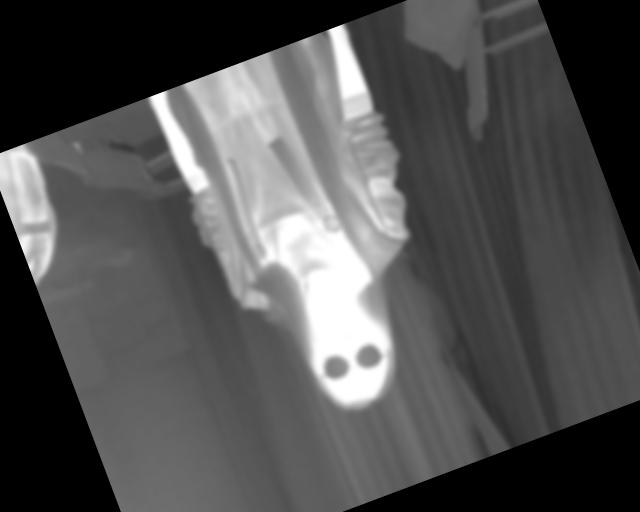face: (258, 92, 352, 203)
